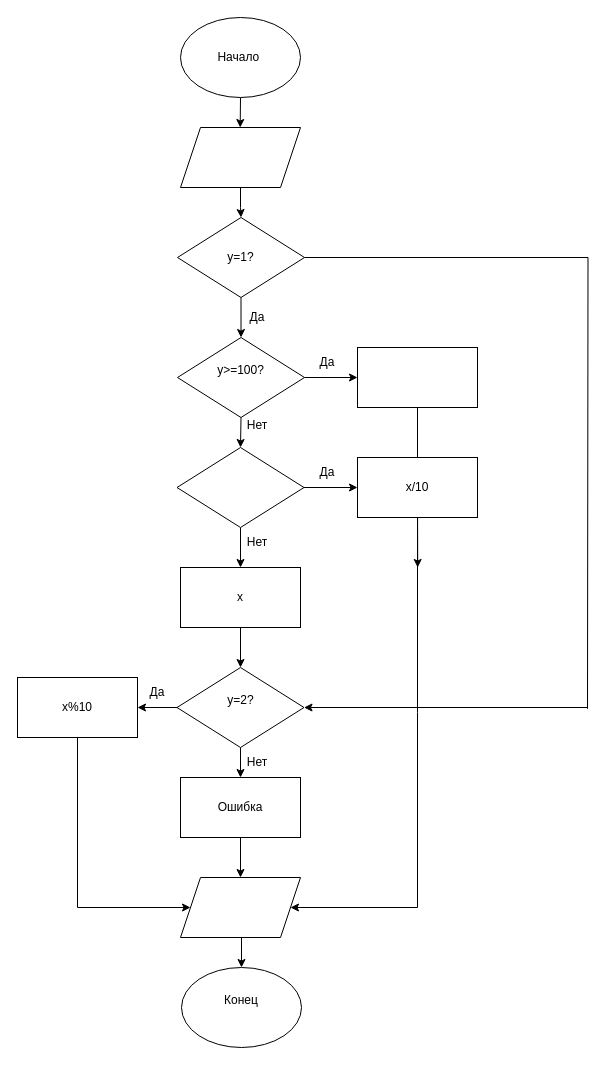
Some shapes in this 613 by 1065 pixel diagram are drawn without their labels. Here are the shapes that lost their labels. From the top down, the centre of each, then its label:
(x=240, y=157): Ввод x,y
(x=417, y=377): x/100
(x=240, y=487): y>=10?
(x=240, y=907): Вывод результата
